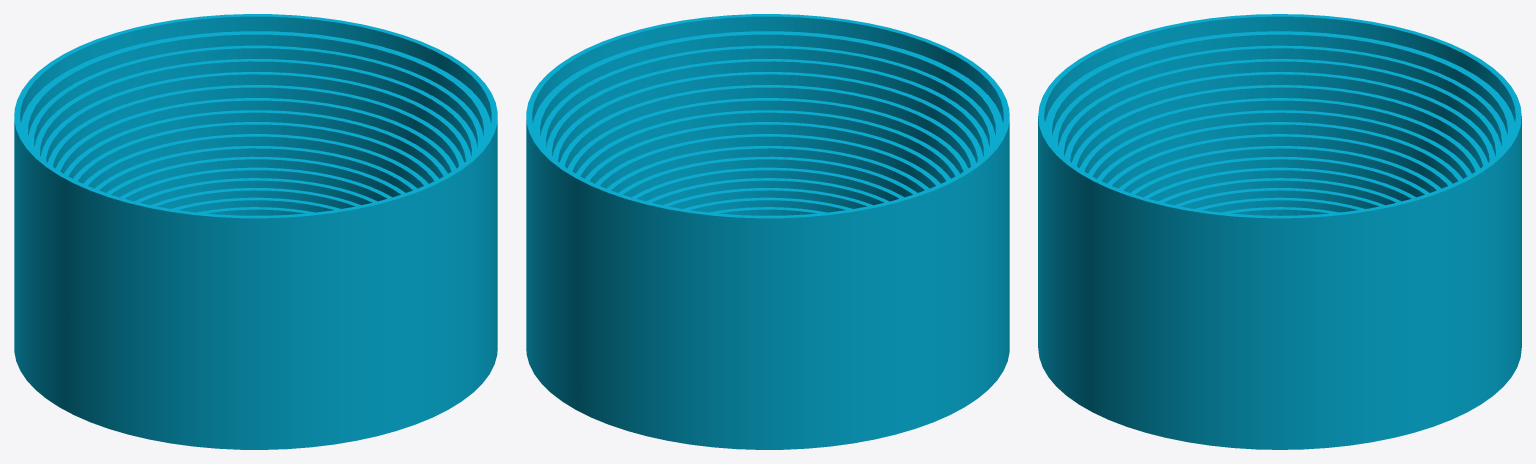
Rendered from cortezas acumulado.fbx.
3 renders of one model, left to right at view 1: azimuth 30°, elevation 25°; view 2: azimuth 150°, elevation 25°; view 3: azimuth 270°, elevation 25°, orthographic.
Parts seen in each view (by area): view 1: y_x__corteza_acomulada_ejey:L37, y_x__corteza_acomulada_ejey:L36, y_x__corteza_acomulada_ejey:L35, y_x__corteza_acomulada_ejey:L34, y_x__corteza_acomulada_ejey:L33, y_x__corteza_acomulada_ejey:L32, y_x__corteza_acomulada_ejey:L31, y_x__corteza_acomulada_ejey:L25, y_x__corteza_acomulada_ejey:L30, y_x__corteza_acomulada_ejey:L29, y_x__corteza_acomulada_ejey:L28, y_x__corteza_acomulada_ejey:L27 (+4 smaller); view 2: y_x__corteza_acomulada_ejey:L37, y_x__corteza_acomulada_ejey:L36, y_x__corteza_acomulada_ejey:L35, y_x__corteza_acomulada_ejey:L34, y_x__corteza_acomulada_ejey:L33, y_x__corteza_acomulada_ejey:L32, y_x__corteza_acomulada_ejey:L31, y_x__corteza_acomulada_ejey:L25, y_x__corteza_acomulada_ejey:L30, y_x__corteza_acomulada_ejey:L29, y_x__corteza_acomulada_ejey:L28, y_x__corteza_acomulada_ejey:L27 (+4 smaller); view 3: y_x__corteza_acomulada_ejey:L37, y_x__corteza_acomulada_ejey:L36, y_x__corteza_acomulada_ejey:L35, y_x__corteza_acomulada_ejey:L34, y_x__corteza_acomulada_ejey:L33, y_x__corteza_acomulada_ejey:L32, y_x__corteza_acomulada_ejey:L31, y_x__corteza_acomulada_ejey:L25, y_x__corteza_acomulada_ejey:L30, y_x__corteza_acomulada_ejey:L29, y_x__corteza_acomulada_ejey:L28, y_x__corteza_acomulada_ejey:L27 (+4 smaller).
Part boxes in pixels (x1=…): y_x__corteza_acomulada_ejey:L37: x1=14, y1=14, x2=497, y2=449; y_x__corteza_acomulada_ejey:L36: x1=21, y1=31, x2=490, y2=144; y_x__corteza_acomulada_ejey:L35: x1=28, y1=45, x2=483, y2=150; y_x__corteza_acomulada_ejey:L34: x1=34, y1=59, x2=477, y2=156; y_x__corteza_acomulada_ejey:L33: x1=40, y1=72, x2=470, y2=162; y_x__corteza_acomulada_ejey:L32: x1=48, y1=85, x2=464, y2=168; y_x__corteza_acomulada_ejey:L31: x1=55, y1=98, x2=456, y2=173; y_x__corteza_acomulada_ejey:L25: x1=120, y1=167, x2=392, y2=205; y_x__corteza_acomulada_ejey:L30: x1=64, y1=110, x2=447, y2=178; y_x__corteza_acomulada_ejey:L29: x1=73, y1=122, x2=438, y2=183; y_x__corteza_acomulada_ejey:L28: x1=83, y1=134, x2=428, y2=188; y_x__corteza_acomulada_ejey:L27: x1=94, y1=146, x2=416, y2=192; y_x__corteza_acomulada_ejey:L37: x1=526, y1=14, x2=1009, y2=449; y_x__corteza_acomulada_ejey:L36: x1=533, y1=31, x2=1002, y2=144; y_x__corteza_acomulada_ejey:L35: x1=540, y1=45, x2=995, y2=150; y_x__corteza_acomulada_ejey:L34: x1=546, y1=59, x2=989, y2=156; y_x__corteza_acomulada_ejey:L33: x1=553, y1=72, x2=983, y2=162; y_x__corteza_acomulada_ejey:L32: x1=559, y1=85, x2=975, y2=168; y_x__corteza_acomulada_ejey:L31: x1=567, y1=98, x2=968, y2=173; y_x__corteza_acomulada_ejey:L25: x1=631, y1=167, x2=903, y2=205; y_x__corteza_acomulada_ejey:L30: x1=576, y1=110, x2=959, y2=178; y_x__corteza_acomulada_ejey:L29: x1=585, y1=122, x2=950, y2=183; y_x__corteza_acomulada_ejey:L28: x1=595, y1=134, x2=940, y2=188; y_x__corteza_acomulada_ejey:L27: x1=607, y1=146, x2=929, y2=192; y_x__corteza_acomulada_ejey:L37: x1=1038, y1=14, x2=1521, y2=449; y_x__corteza_acomulada_ejey:L36: x1=1045, y1=31, x2=1514, y2=145; y_x__corteza_acomulada_ejey:L35: x1=1052, y1=45, x2=1507, y2=149; y_x__corteza_acomulada_ejey:L34: x1=1058, y1=59, x2=1501, y2=156; y_x__corteza_acomulada_ejey:L33: x1=1065, y1=72, x2=1494, y2=162; y_x__corteza_acomulada_ejey:L32: x1=1072, y1=85, x2=1487, y2=168; y_x__corteza_acomulada_ejey:L31: x1=1079, y1=98, x2=1480, y2=173; y_x__corteza_acomulada_ejey:L25: x1=1144, y1=167, x2=1415, y2=205; y_x__corteza_acomulada_ejey:L30: x1=1088, y1=110, x2=1471, y2=178; y_x__corteza_acomulada_ejey:L29: x1=1097, y1=122, x2=1462, y2=183; y_x__corteza_acomulada_ejey:L28: x1=1107, y1=134, x2=1452, y2=188; y_x__corteza_acomulada_ejey:L27: x1=1118, y1=146, x2=1441, y2=192.
Bounding box in the file's own units: 36.28 × 19.17 × 36.28.
